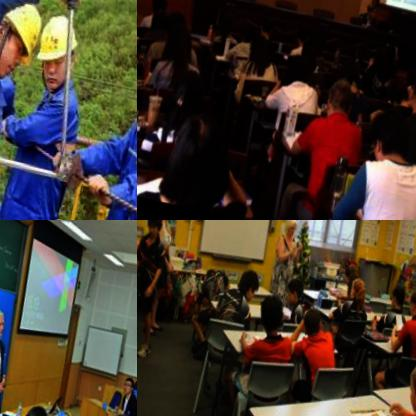head: (161, 105, 233, 193), (359, 104, 416, 167), (166, 66, 201, 115), (158, 19, 195, 63), (319, 73, 353, 115), (255, 290, 287, 333), (276, 56, 311, 91), (330, 57, 361, 93), (399, 354, 416, 414), (231, 265, 259, 300), (380, 72, 407, 107), (342, 272, 369, 306), (297, 301, 325, 333), (242, 30, 269, 62), (8, 397, 51, 416), (368, 55, 392, 87), (281, 273, 304, 304), (402, 60, 416, 106), (347, 36, 369, 64), (383, 282, 405, 308), (214, 7, 235, 33), (237, 20, 257, 46), (339, 261, 358, 288), (297, 38, 318, 62), (401, 285, 416, 317), (139, 220, 164, 238), (254, 15, 273, 37), (144, 0, 166, 16), (118, 375, 133, 395), (292, 27, 308, 45), (0, 302, 8, 338), (279, 220, 296, 236), (372, 42, 387, 57), (361, 2, 375, 18)
helmet: (23, 4, 79, 99), (0, 0, 52, 87), (127, 27, 137, 130)
